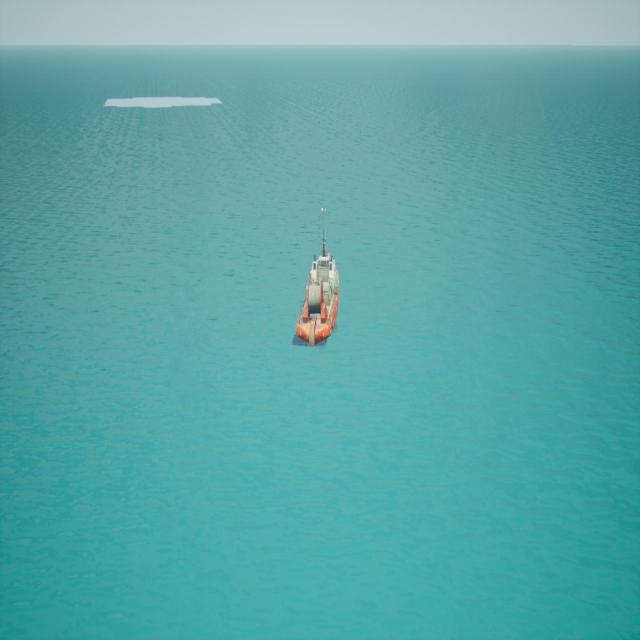tug boat: (296, 210, 342, 350)
